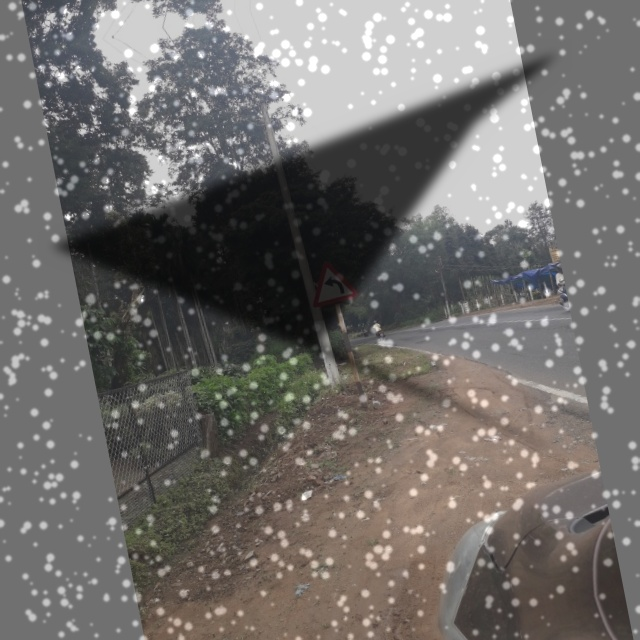Left_Hand_Curve: (306, 253, 356, 306)
